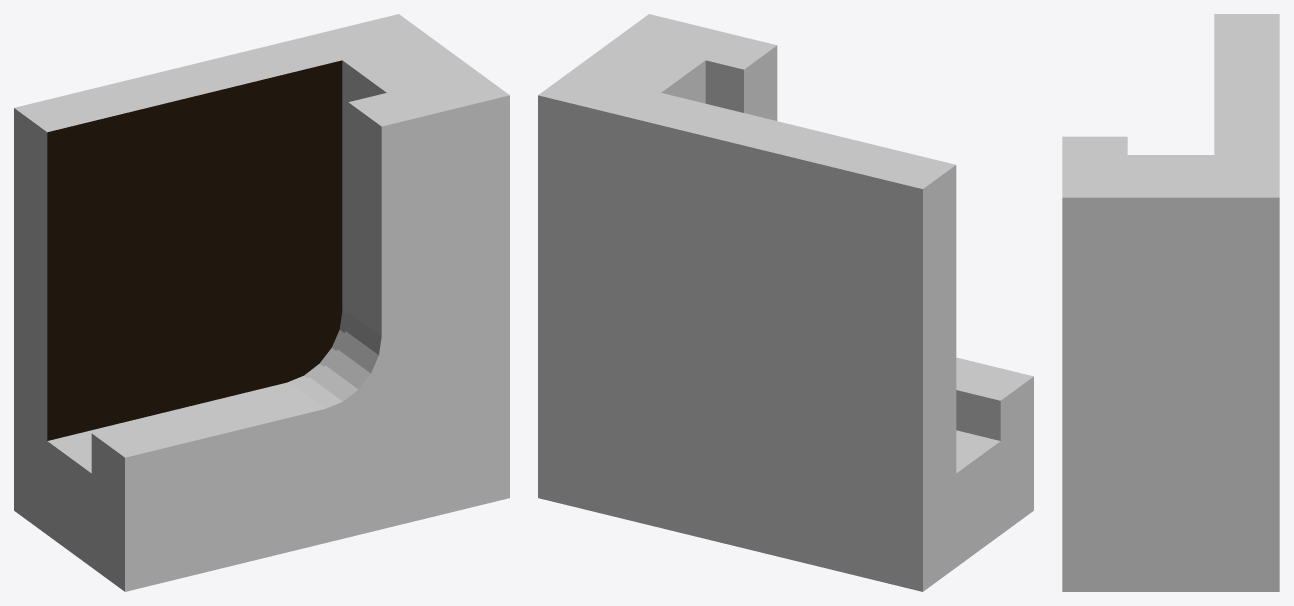
Rendered from block_corner.fbx.
3 views of the same model, side by side, from view 1: azimuth 30°, elevation 25°; view 2: azimuth 150°, elevation 25°; view 3: azimuth 270°, elevation 25° (orthographic). The views are drawn at different scales.
Visible parts, largest first — view 1: block_corner; view 2: block_corner; view 3: block_corner.
Part boxes in pixels (<box>): block_corner: <box>14,14,509,591</box>; block_corner: <box>538,14,1033,591</box>; block_corner: <box>1062,14,1279,591</box>.
Size of the model in its own units: 0.2 by 0.2 by 0.1.
